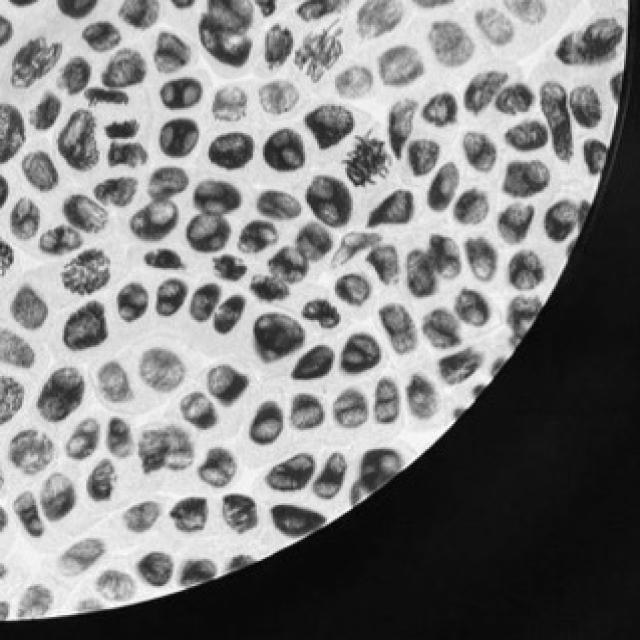anaphase: (485, 76, 554, 161), (0, 498, 14, 574)
interphase: (205, 129, 259, 175), (154, 118, 203, 159), (152, 276, 190, 319)
metaphase: (235, 0, 295, 23)
prophase: (335, 122, 399, 197), (289, 14, 352, 87), (53, 244, 120, 298), (0, 230, 30, 290)
telophase: (78, 83, 144, 144)
